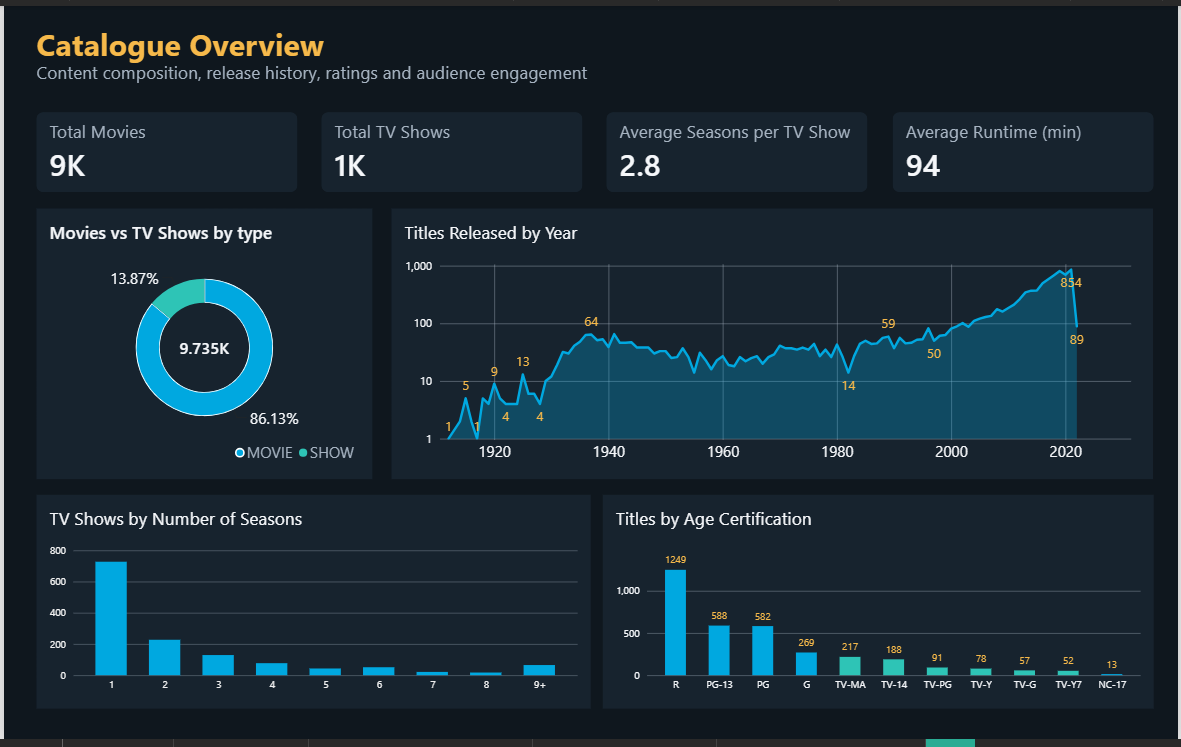

The page's visual inventory and layout, read from the dashboard file:
{"tool":"powerbi","page":{"name":"Overview","canvas":[1440,900],"ordinal":1},"visuals":[{"type":"textbox","box":[40,22,463.3,60],"z":0},{"type":"textbox","box":[40,66,760,88],"z":1000},{"type":"cardVisual","fields":{"Data":["titles.Average Runtime"]},"box":[1090,130,320,98],"z":2000},{"type":"cardVisual","fields":{"Data":["titles.Total Movies"]},"box":[40,130,320,98],"z":3000},{"type":"cardVisual","fields":{"Data":["titles.Total TV Shows"]},"box":[390,130,320,98],"z":4000},{"type":"cardVisual","fields":{"Data":["titles.Average Seasons"]},"box":[740,130,320,98],"z":5000},{"type":"donutChart","fields":{"Category":["titles.type"],"Y":["Count(titles.title)"]},"box":[40,248,412,332],"z":6000},{"type":"lineChart","title":"Titles Released by Year","fields":{"Category":["titles.release_year"],"Y":["Count(titles.title)"]},"box":[476,248,934,332],"z":7000},{"type":"clusteredColumnChart","title":"TV Shows by Number of Seasons","fields":{"Category":["titles.Season Bracket"],"Y":["CountNonNull(titles.title)"]},"box":[40,600,680,262],"z":8000},{"type":"lineStackedColumnComboChart","title":"Titles by Age Certification","fields":{"Category":["titles.age_certification"],"Series":["titles.type"],"Y":["Count(titles.id)"]},"box":[734,600,676,262],"z":9000}]}

Visuals, with their boxes in screenshot pixels (x1, y1, x2, y2), scaled from the page's 1440x900 canvas onto the 1181x747 screenshot:
textbox: (x1=33, y1=18, x2=413, y2=68)
textbox: (x1=33, y1=55, x2=656, y2=128)
cardVisual - titles.Average Runtime: (x1=894, y1=108, x2=1156, y2=189)
cardVisual - titles.Total Movies: (x1=33, y1=108, x2=295, y2=189)
cardVisual - titles.Total TV Shows: (x1=320, y1=108, x2=582, y2=189)
cardVisual - titles.Average Seasons: (x1=607, y1=108, x2=869, y2=189)
donutChart - titles.type x Count(titles.title): (x1=33, y1=206, x2=371, y2=481)
"Titles Released by Year" lineChart: (x1=390, y1=206, x2=1156, y2=481)
"TV Shows by Number of Seasons" clusteredColumnChart: (x1=33, y1=498, x2=590, y2=715)
"Titles by Age Certification" lineStackedColumnComboChart: (x1=602, y1=498, x2=1156, y2=715)
